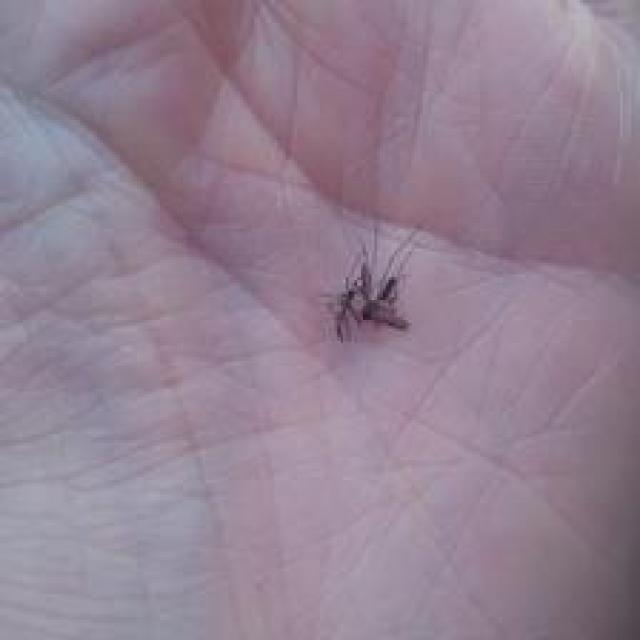Aedes albopictus: (318, 224, 422, 344)
